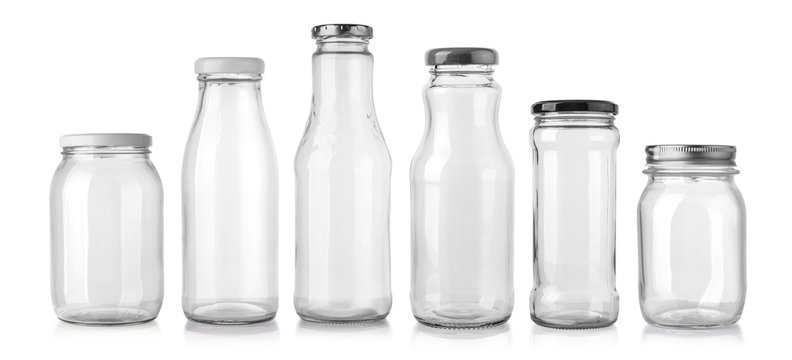glass_bottle: (405, 41, 520, 333), (291, 20, 396, 328), (177, 52, 287, 329), (40, 128, 171, 331), (633, 137, 757, 337), (525, 96, 626, 335)
